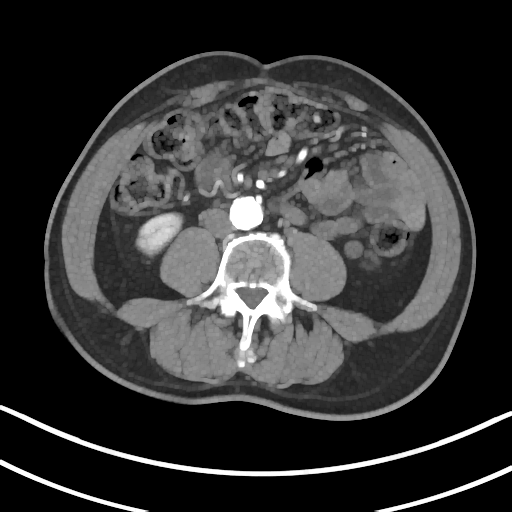Lesion: (342, 236, 365, 263)
